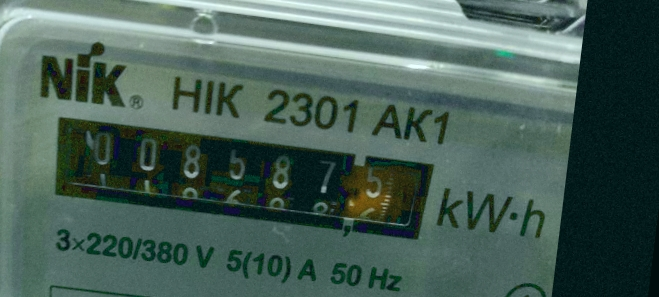0: (132, 131, 161, 173)
1: (87, 125, 115, 169)
5: (360, 159, 388, 202), (223, 143, 250, 183)
7: (311, 154, 339, 198)
8: (176, 138, 206, 182), (267, 149, 293, 192)
screen: (26, 94, 455, 262)
